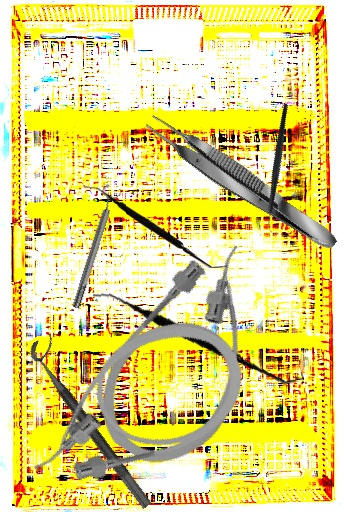Cannula: (76, 222, 307, 487), (2, 302, 261, 506)
Chopper: (226, 102, 332, 237)
Fixation Ring: (24, 331, 167, 511), (65, 183, 124, 311)
Spatula Surgical: (92, 266, 304, 407), (80, 184, 229, 269)
Tissue Forceps: (140, 107, 343, 259)
